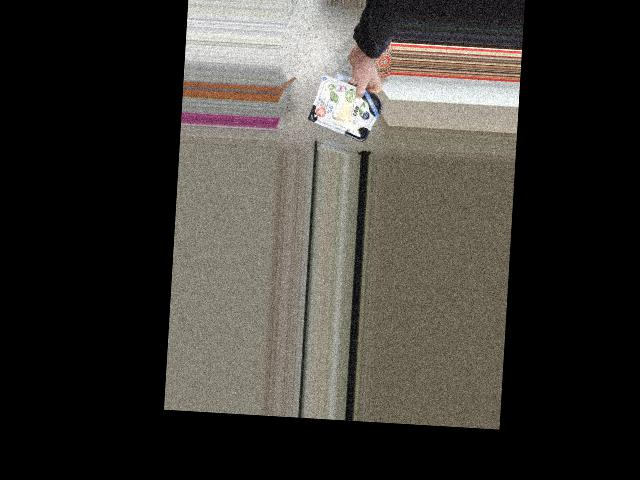cheese: (312, 85, 378, 136)
